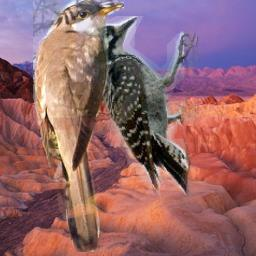Cuckoo: (33, 0, 124, 252)
Woodpecker: (83, 16, 199, 198)
